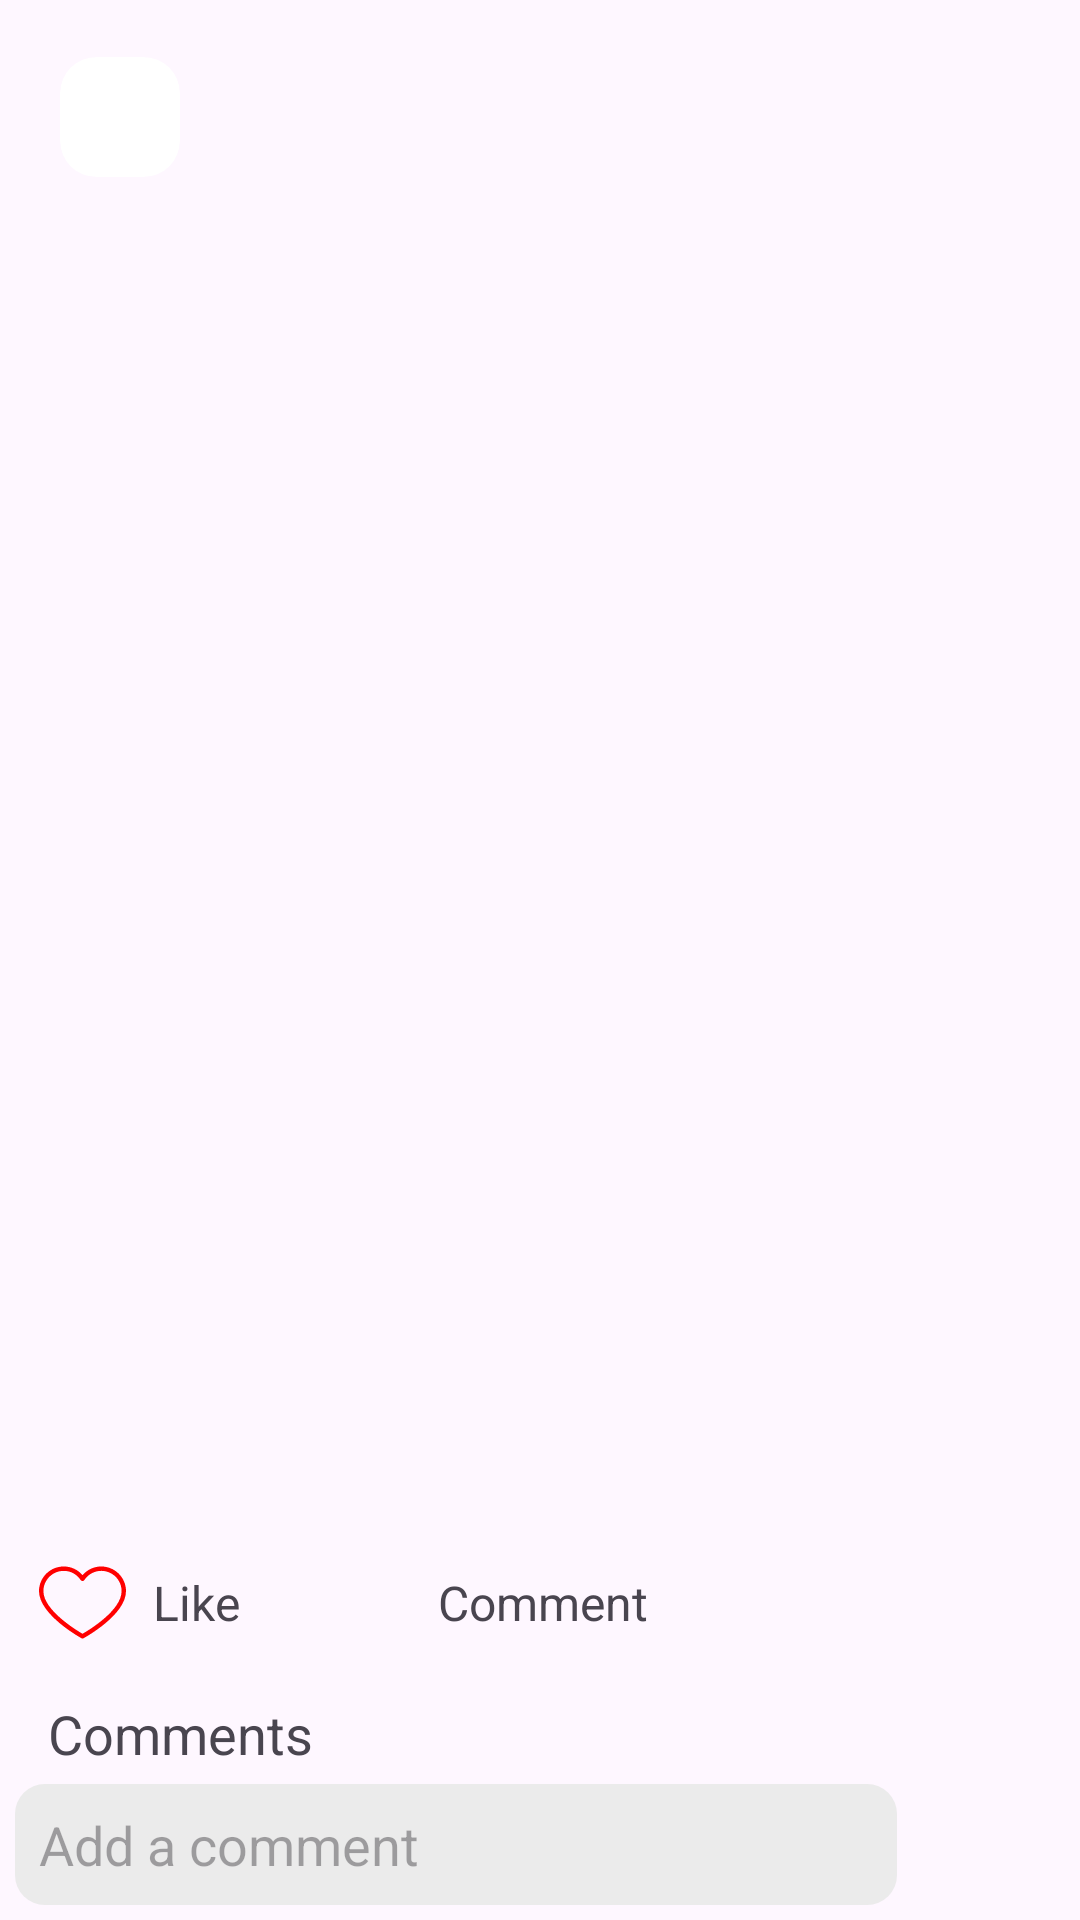

Icon click points for this 1080px x 1920px phone screenshot, format (x=x, y=y):
heart: (x=82, y=1602)
